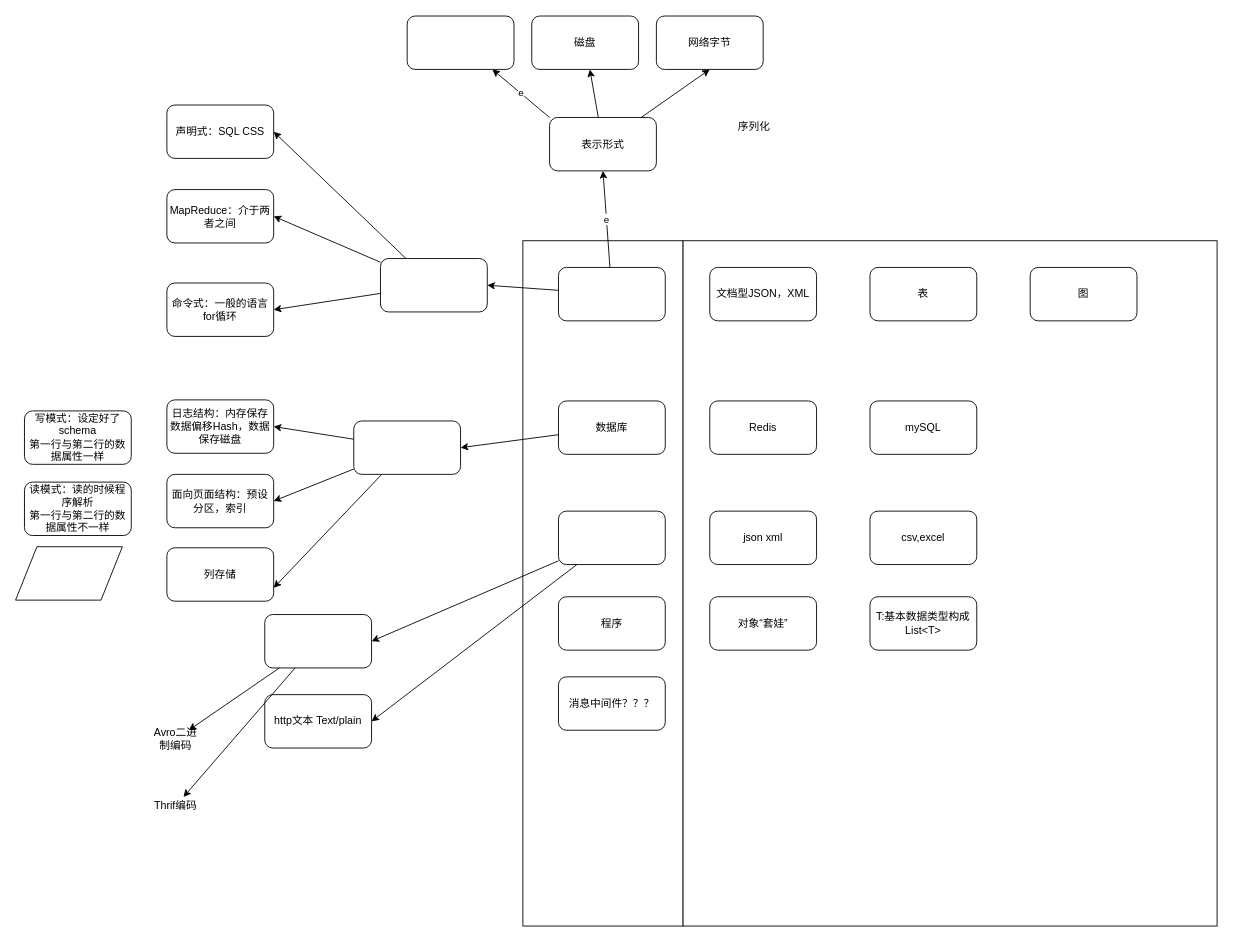
The diagram is 1233 pixels wide and 942 high, and some of its shapes have lost their labels. Each missing label, with the box of its shape:
RPC 二进制: (264, 614, 372, 668)
内存: (406, 15, 514, 69)
存储引擎: (353, 420, 461, 474)
操作模式（查询语言分化）: (380, 258, 487, 312)
数据模型: (558, 267, 665, 321)
文件形式: (558, 510, 665, 565)
读写方式 事务性与分析性: (15, 546, 122, 600)
